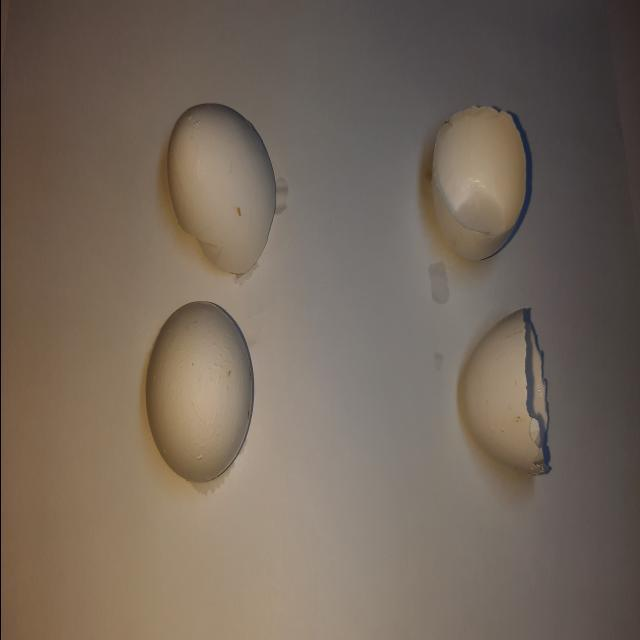egg shell: (425, 99, 557, 481), (143, 296, 255, 488), (164, 100, 278, 279), (424, 99, 530, 269), (455, 306, 557, 481)
